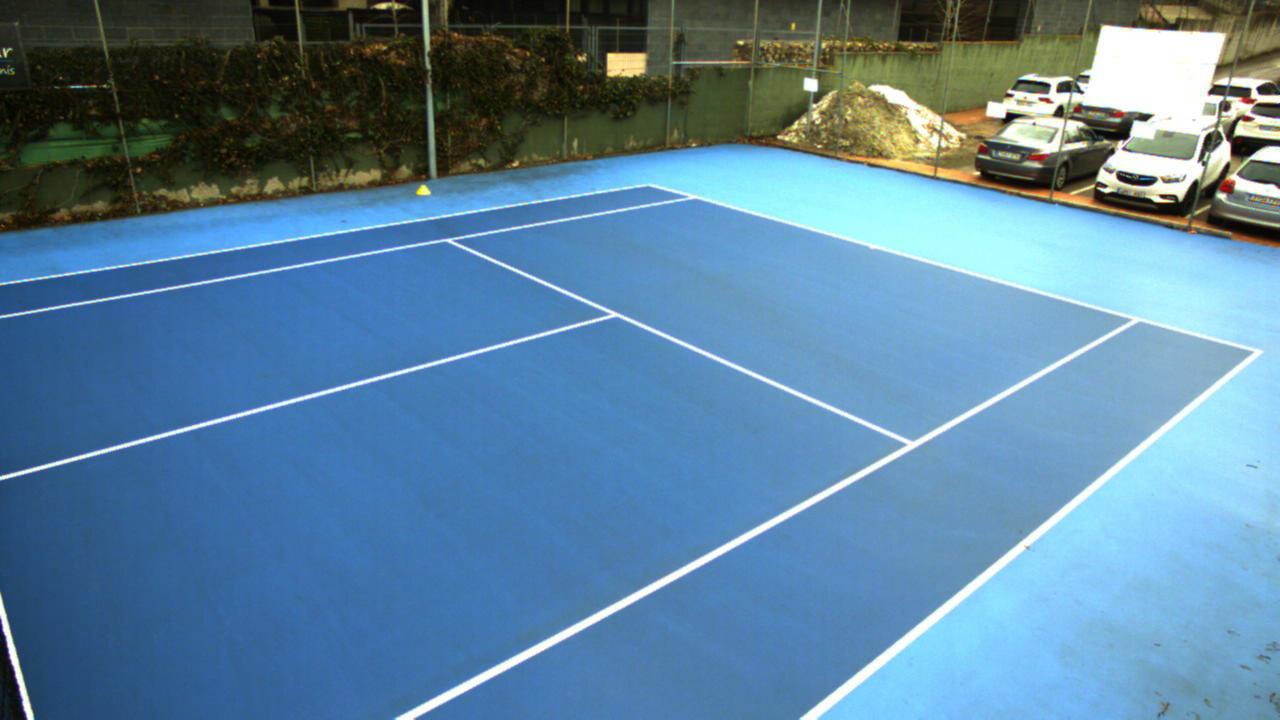cancha_tenis: (0, 196, 1143, 720)
point_f1: (680, 184, 706, 206)
point_f2: (1120, 303, 1146, 336)
point_fc1: (863, 237, 883, 260)
point_i1: (437, 228, 466, 253)
point_i2: (885, 428, 925, 458)
point_ic1: (590, 299, 630, 330)
